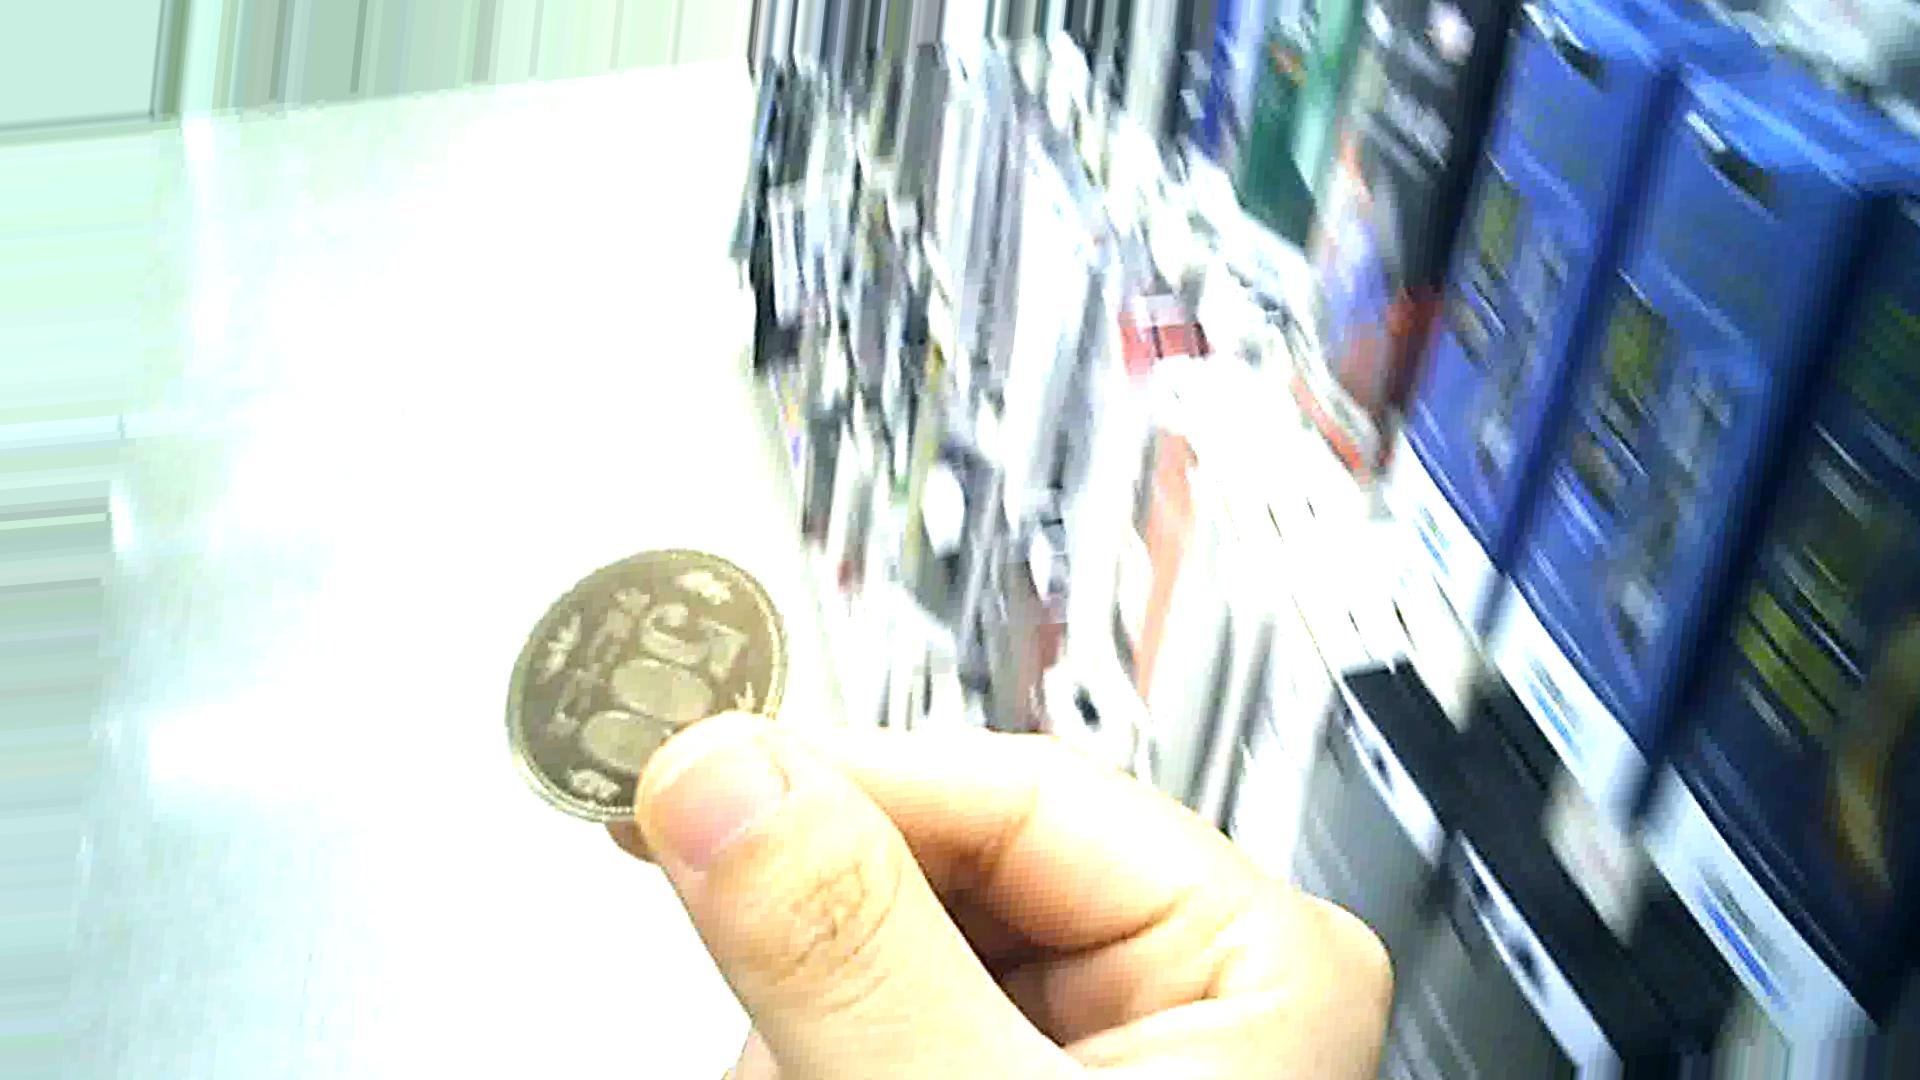500 Yen: (491, 545, 783, 843)
